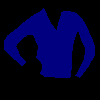felpa: (4, 7, 95, 78)
